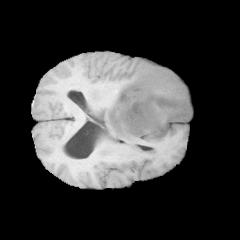glioma: (103, 61, 192, 144)
